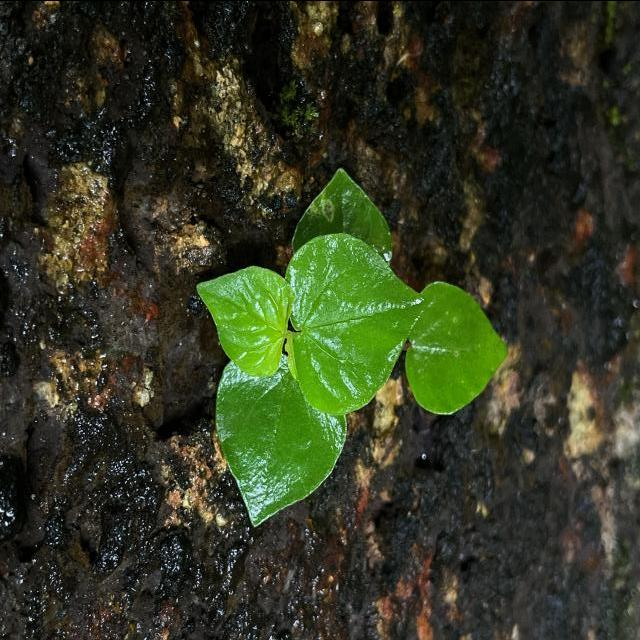Peperomia pellucida: (281, 229, 430, 419), (211, 356, 349, 531), (192, 259, 298, 381)
